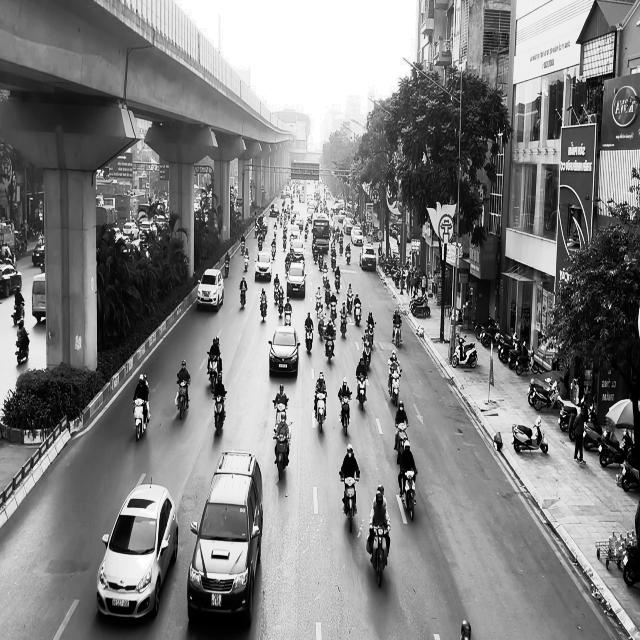car: (188, 450, 264, 627), (96, 478, 179, 620), (268, 326, 301, 376), (197, 268, 224, 312), (254, 251, 273, 281), (359, 244, 376, 271)
motorbike: (368, 522, 390, 588), (512, 415, 548, 454), (340, 472, 360, 532), (274, 421, 294, 480), (400, 467, 418, 521), (452, 334, 478, 368), (132, 398, 150, 442), (175, 377, 191, 419), (213, 390, 227, 436), (314, 391, 328, 433), (339, 392, 352, 436), (396, 424, 409, 465), (273, 397, 289, 430), (208, 353, 220, 394), (356, 373, 369, 410), (389, 369, 402, 406), (16, 332, 30, 364), (324, 334, 336, 364), (362, 337, 372, 370), (392, 320, 402, 347), (12, 302, 24, 324), (305, 326, 314, 353), (354, 301, 362, 326), (340, 312, 347, 338), (260, 298, 268, 320), (240, 287, 247, 309), (224, 258, 230, 278), (244, 253, 249, 271)
